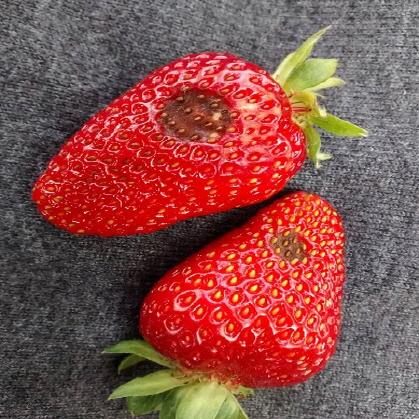Anthracnose Fruit Rot: (150, 85, 241, 147), (263, 226, 315, 266)
